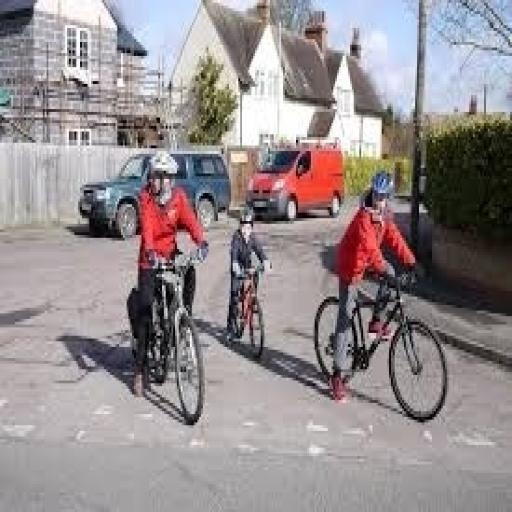cycling: (326, 168, 421, 406), (127, 148, 212, 398), (224, 201, 276, 350)
